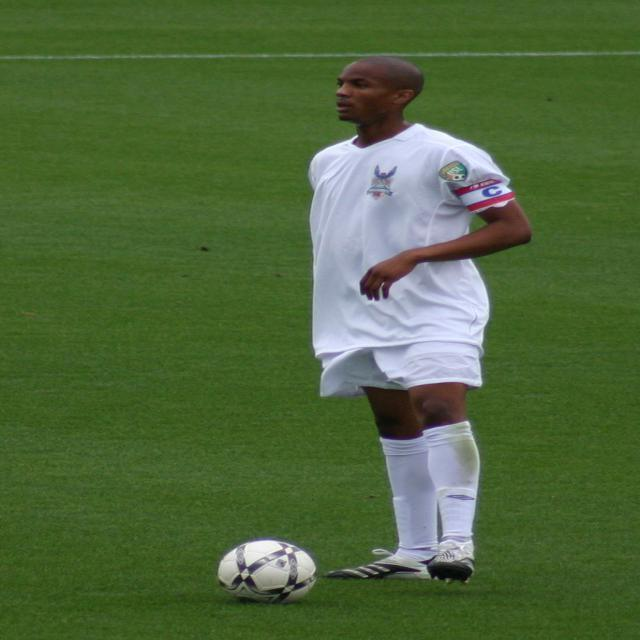football: (209, 517, 334, 600)
